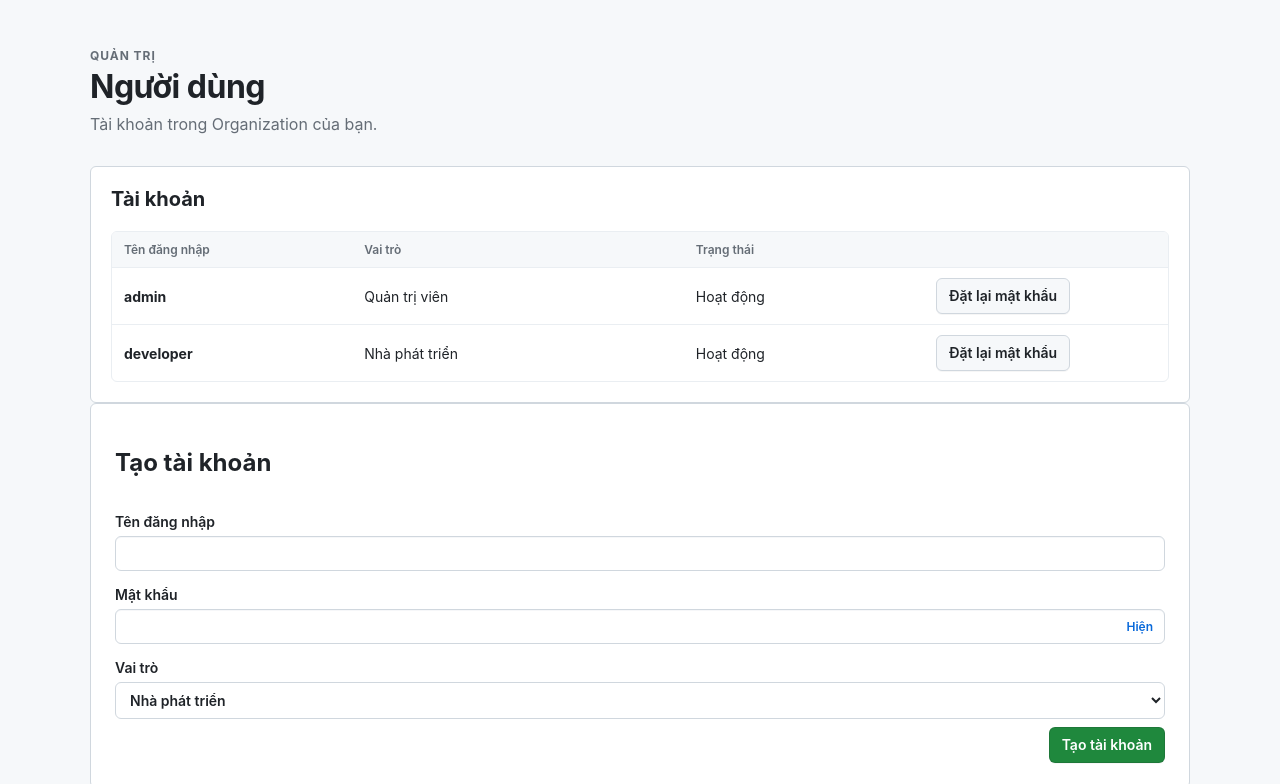
Scenario: creates an account and refreshes the list
Expected: the text "developer" is shown, [124,344,193,362]
Step 1. Type "newdev" into the field labelled "Tên đăng nhập" → x=640, y=553, box [115,536,1165,571]
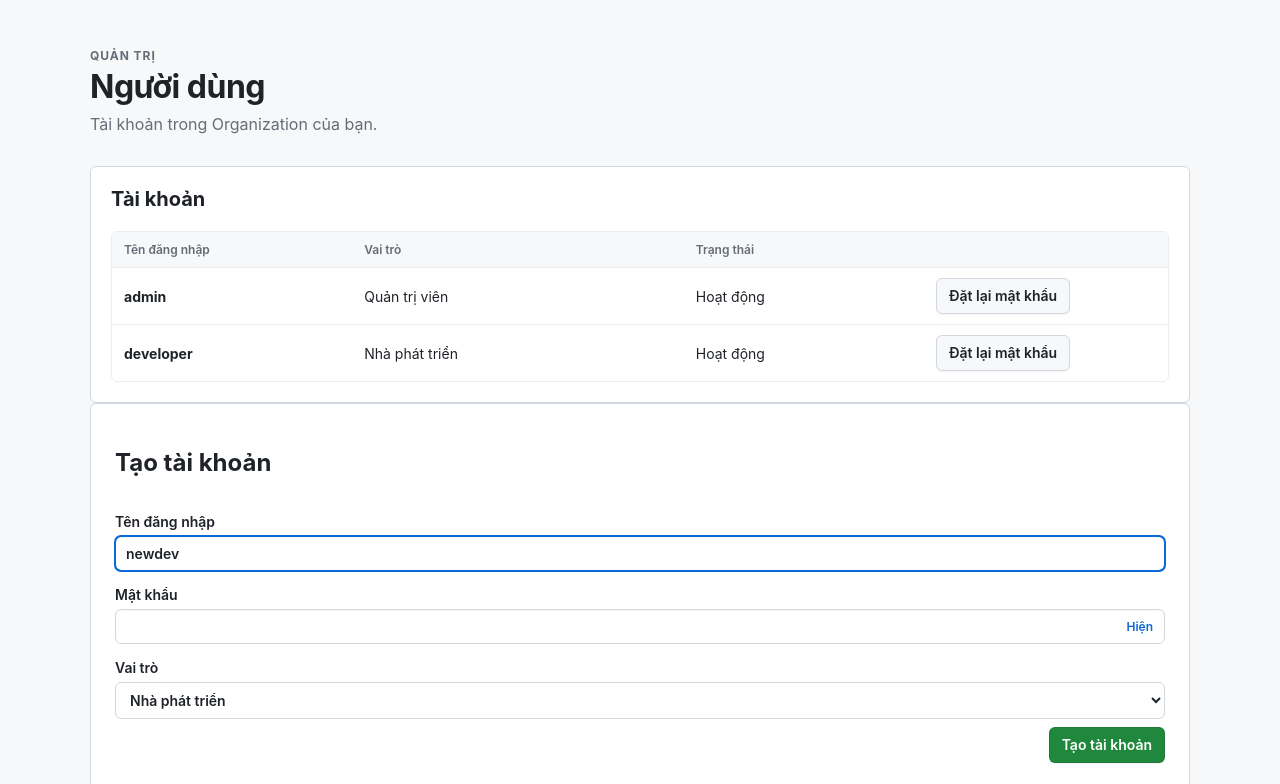
Step 2. Type "password-1" into the password field labelled "Mật khẩu" → x=640, y=626, box [115,609,1165,644]
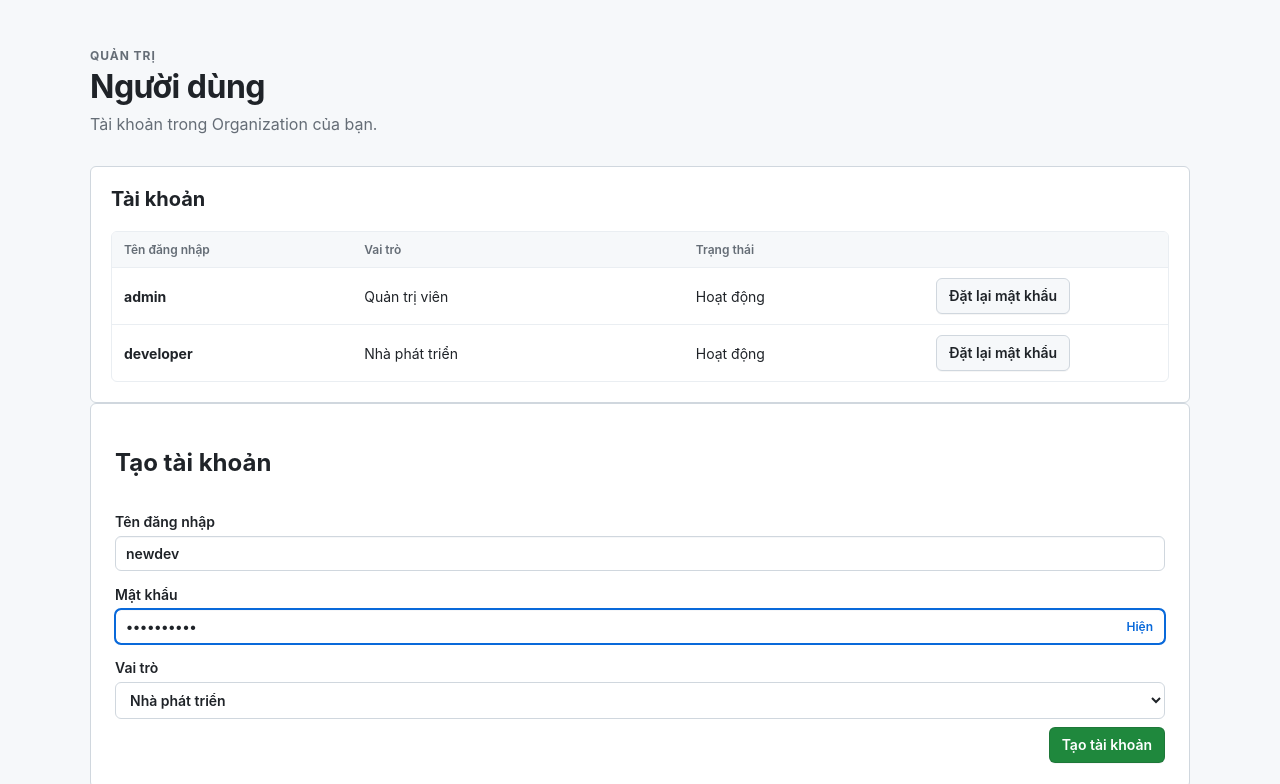
Step 3. Click the button "Tạo tài khoản" → x=1107, y=745, box [1049,727,1165,763]
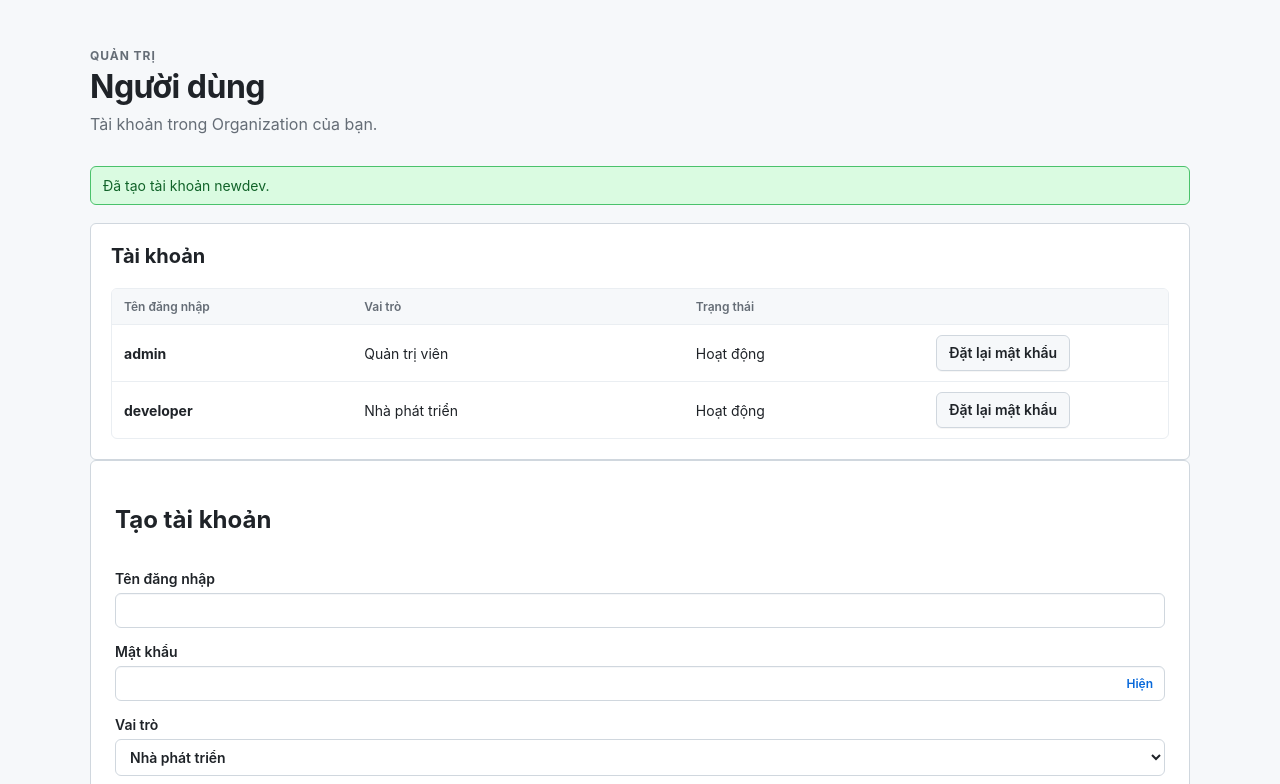
Expected: the message reads "Đã tạo tài khoản newdev.", [103,177,270,194]
Expected: the password field labelled "Mật khẩu" is empty, [115,666,1165,701]
